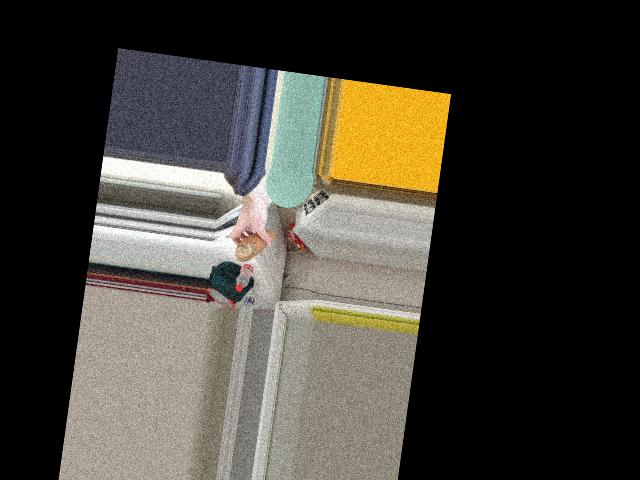sweet_potato: (230, 225, 279, 265)
